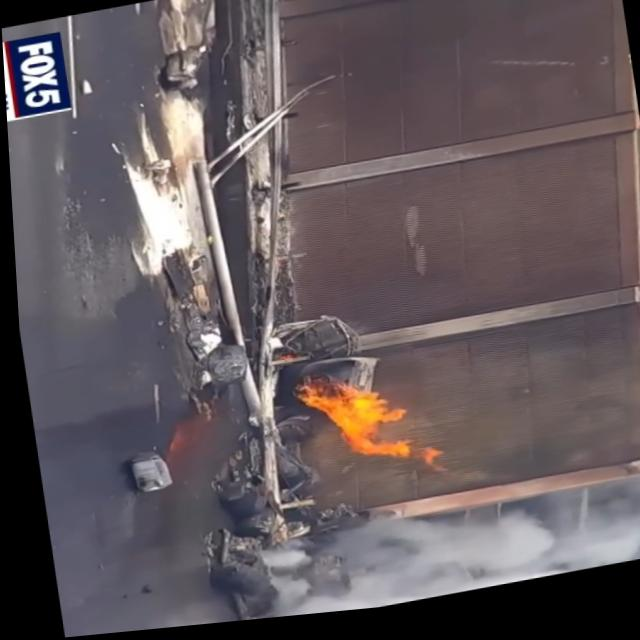Fire: (279, 370, 441, 497)
